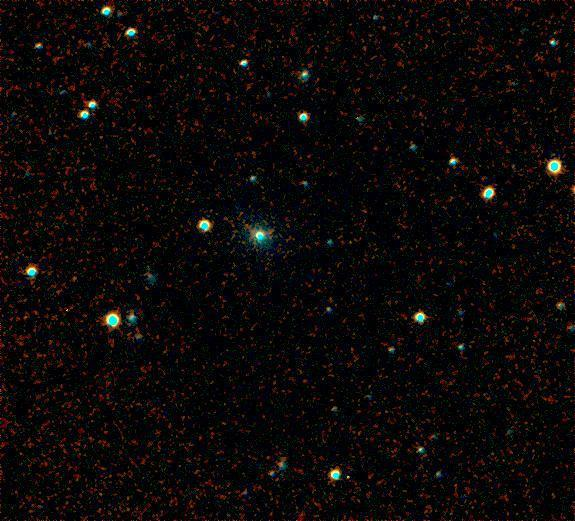star: (54, 267, 84, 297)
